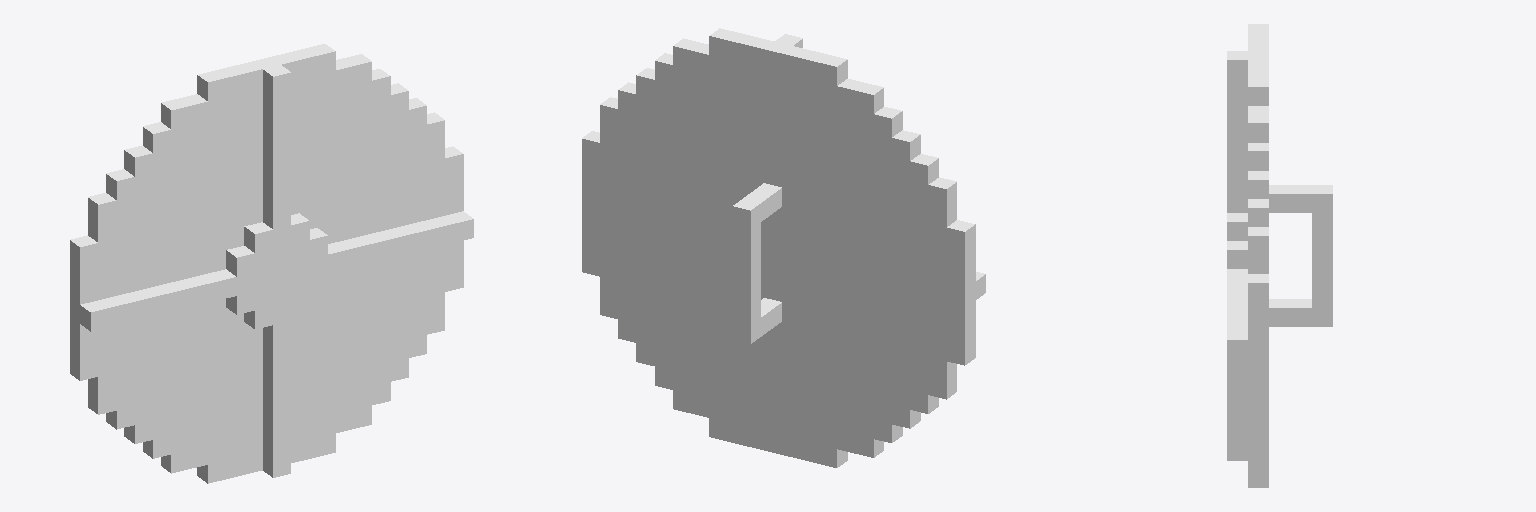
File: weaponsshields-7.obj
3 views of the same model, side by side, from view 1: azimuth 30°, elevation 25°; view 2: azimuth 150°, elevation 25°; view 3: azimuth 270°, elevation 25° (orthographic).
Parts seen in each view (by area): view 1: weaponsshields-7; view 2: weaponsshields-7; view 3: weaponsshields-7.
Boxes of the visible parts, x1=… form: weaponsshields-7: x1=70, y1=44, x2=473, y2=483; weaponsshields-7: x1=582, y1=28, x2=985, y2=467; weaponsshields-7: x1=1227, y1=24, x2=1332, y2=487.
Size of the model in its own units: 21 by 21 by 5.